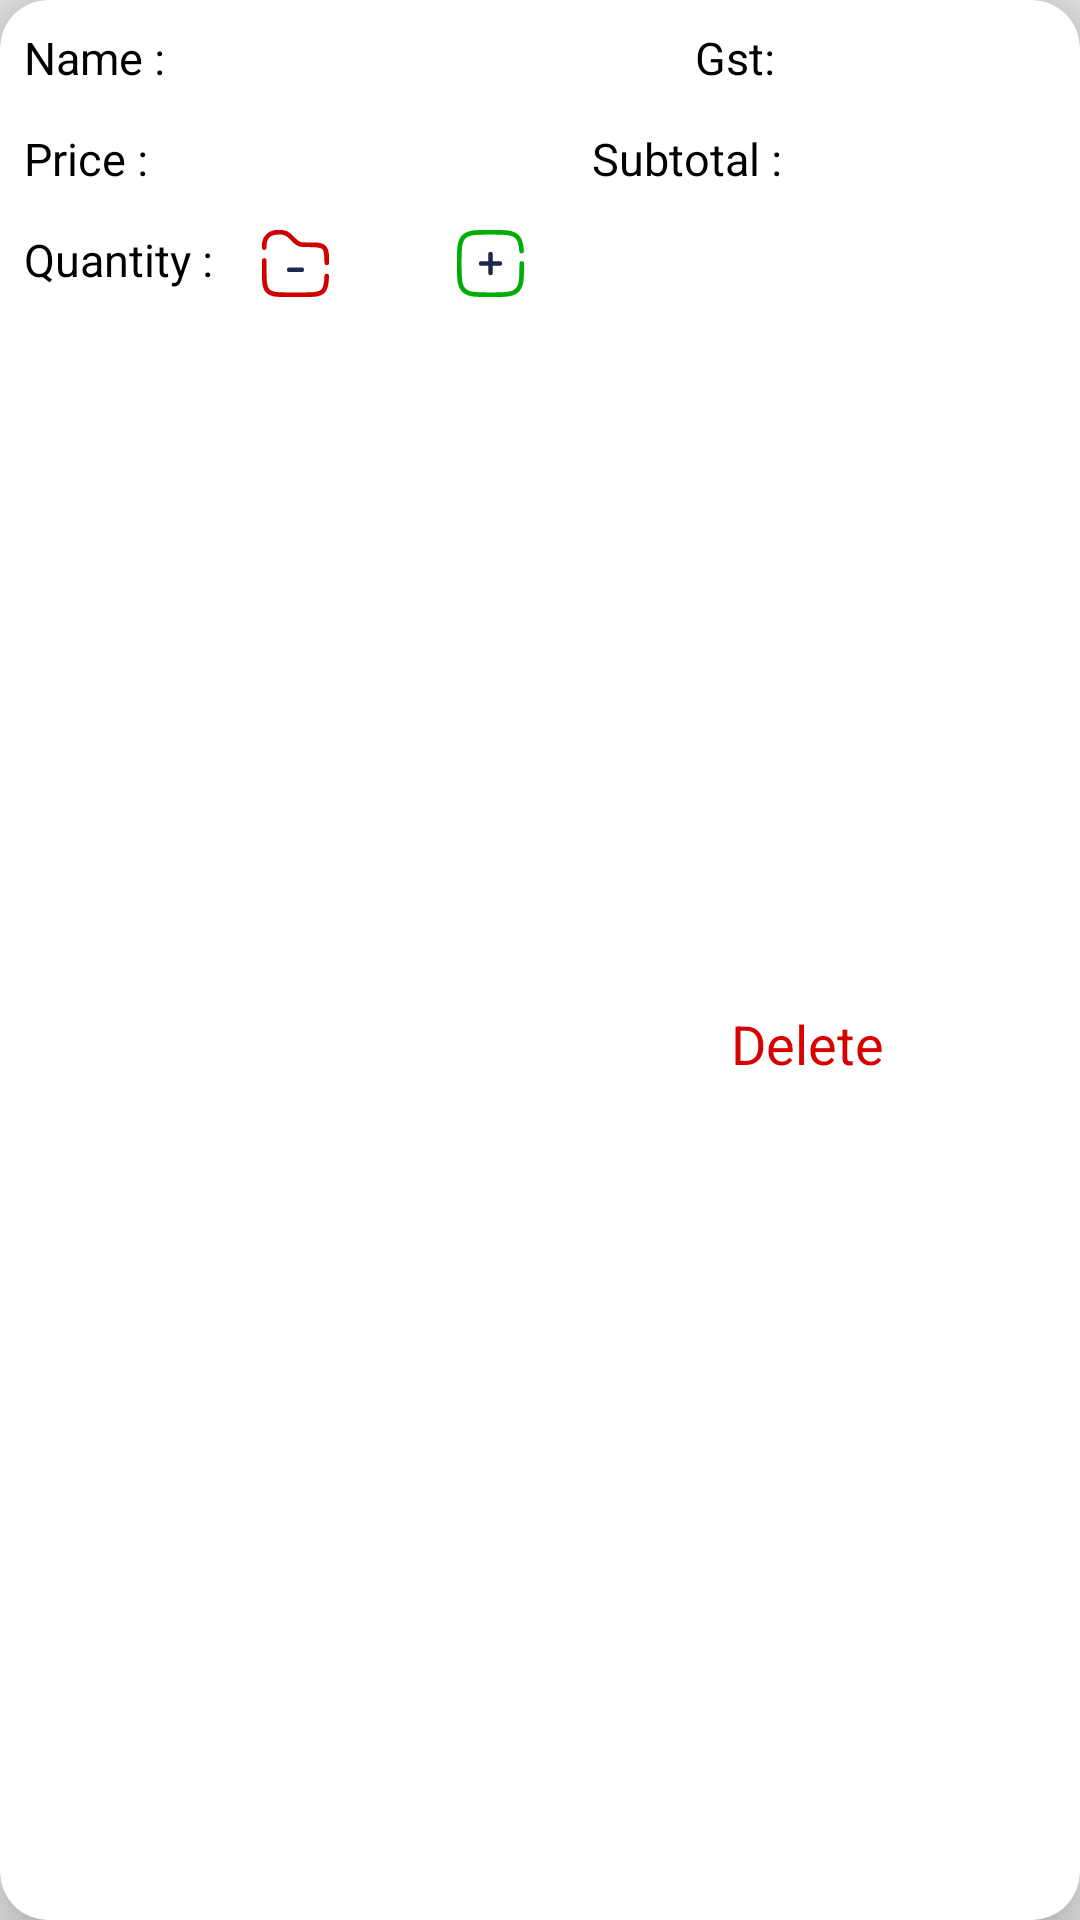

Where to tap for icons on this 1080px x 1920px app screen, as [x,y]:
Decrease product count: [295,263]
Increase product count: [490,263]
